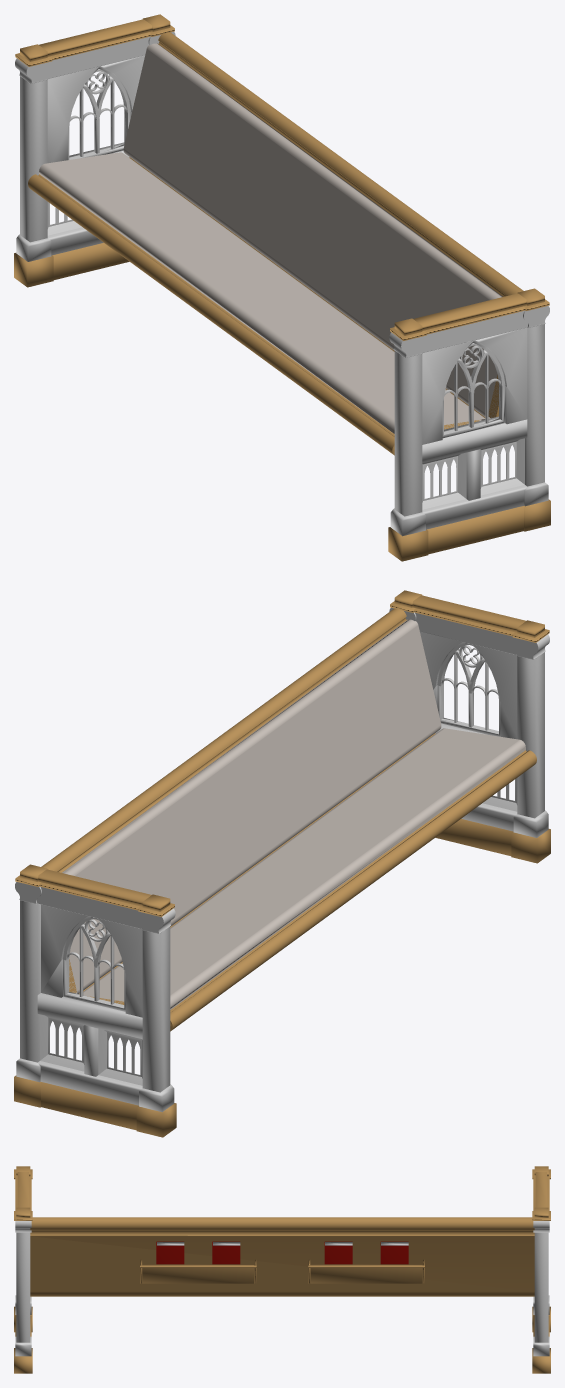
File: Church Pew 65.fbx
3 renders of one model, top to bottom at view 1: azimuth 30°, elevation 25°; view 2: azimuth 150°, elevation 25°; view 3: azimuth 270°, elevation 25°, orthographic. The views are drawn at different scales.
Visible parts, largest first — view 1: 1:1, 3:1, 2:1, 4:1; view 2: 1:1, 2:1, 3:1, 4:1; view 3: 1:1, 3:1, 2:1, 4:1.
Boxes of the visible parts, x1=… form: 1:1: x1=28, y1=32, x2=523, y2=455; 3:1: x1=389, y1=306, x2=549, y2=536; 2:1: x1=14, y1=14, x2=505, y2=438; 4:1: x1=47, y1=202, x2=550, y2=561; 1:1: x1=20, y1=608, x2=536, y2=1062; 2:1: x1=14, y1=642, x2=500, y2=1137; 3:1: x1=389, y1=607, x2=549, y2=837; 4:1: x1=40, y1=590, x2=550, y2=1085; 1:1: x1=30, y1=1217, x2=548, y2=1342; 3:1: x1=15, y1=1221, x2=31, y2=1356; 2:1: x1=532, y1=1166, x2=550, y2=1373; 4:1: x1=14, y1=1166, x2=32, y2=1373.
Bounding box in the file's own units: 1.65 × 2.42 × 7.42.
